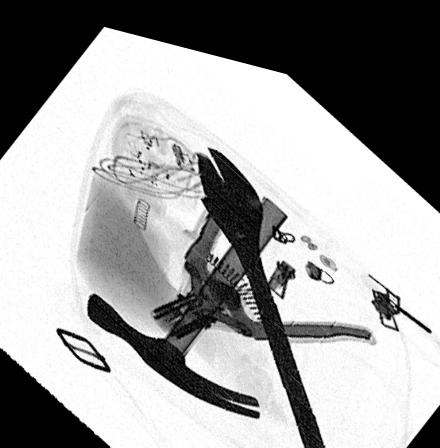Hammer: (87, 178, 288, 409)
Pliers: (147, 146, 380, 336)
Wrench: (194, 132, 332, 448)
